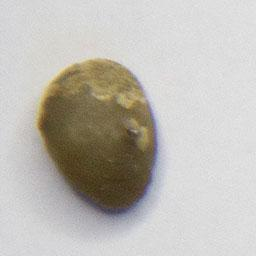premium: (33, 55, 162, 215)
